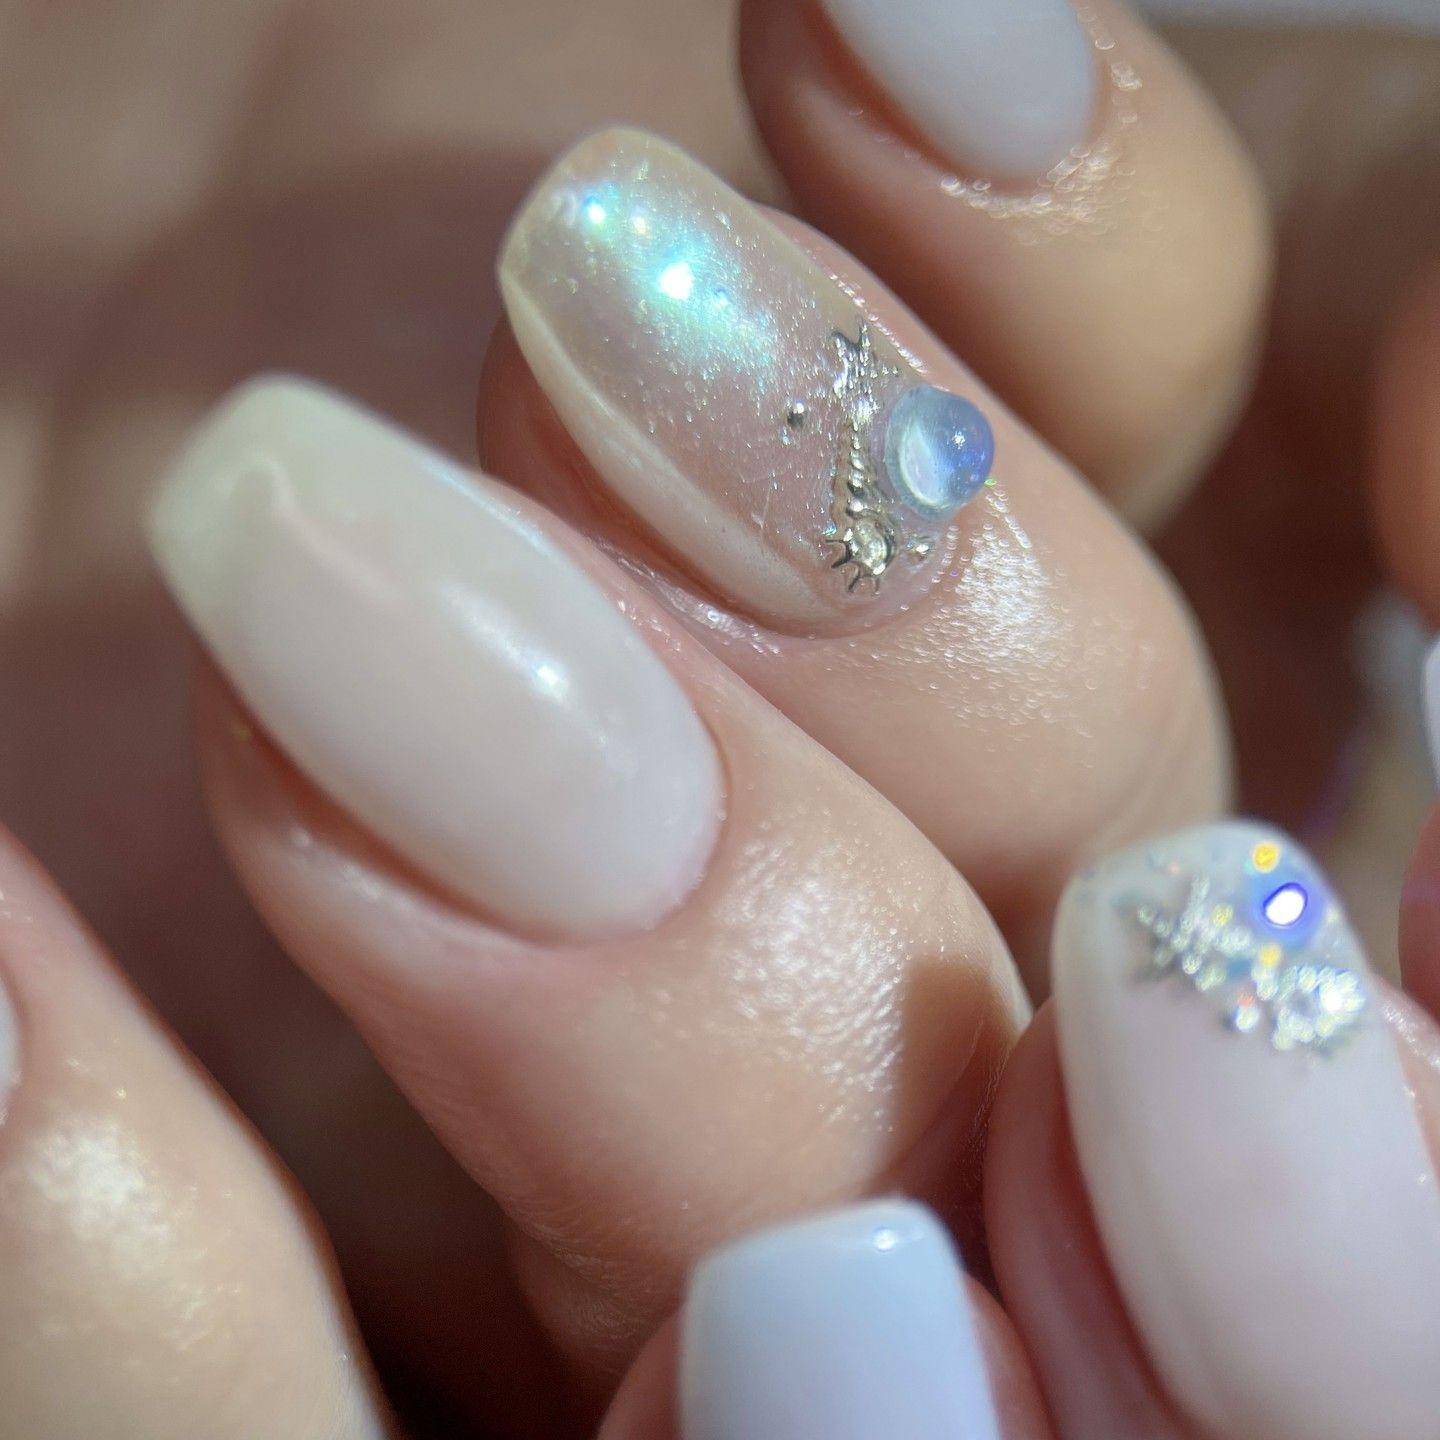nail: (143, 368, 731, 945), (734, 0, 1273, 539), (488, 121, 998, 639), (1047, 816, 1437, 1437), (673, 1194, 1003, 1437)
